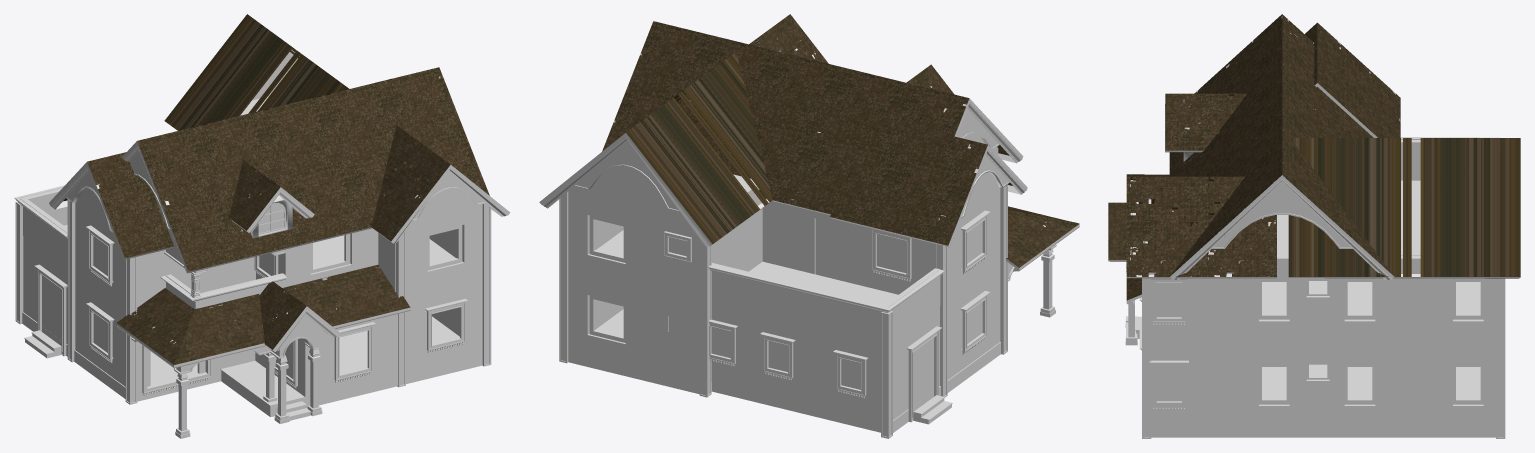
Rendered from house.fbx.
3 renders of one model, left to right at view 1: azimuth 30°, elevation 25°; view 2: azimuth 150°, elevation 25°; view 3: azimuth 270°, elevation 25°, orthographic. The views are drawn at different scales.
Parts seen in each view (by area): view 1: Plane.008, Vert.001, Cube.006, Cube.010, Plane.073, Cube.016, Cube.015, Plane.023, Plane.051, BezierCurve.007, BezierCurve.021, Vert.008 (+14 smaller); view 2: Plane.008, Vert.001, Cube.006, Plane.019, Plane.023, Cube.003, Cube.014, Vert.013, Plane.050, Vert.008, Plane.013, Plane.051 (+19 smaller); view 3: Plane.008, Vert.001, Cube.006, Plane.023, Vert.007, Cube.016, Cube.014, Plane.059, Plane.011, Plane.048, Plane.047, BezierCurve.016 (+9 smaller).
Boxes of the visible parts, box(x1,y1,x2,y2) form: Plane.008: box(49, 14, 510, 367); Vert.001: box(20, 180, 482, 397); Cube.006: box(14, 185, 482, 408); Cube.010: box(131, 337, 322, 438); Plane.073: box(220, 360, 310, 420); Cube.016: box(482, 203, 491, 366); Cube.015: box(394, 230, 405, 387); Plane.023: box(64, 225, 455, 309); Plane.051: box(42, 275, 61, 340); BezierCurve.007: box(334, 322, 375, 382); BezierCurve.021: box(34, 264, 67, 356); Vert.008: box(66, 151, 170, 231); Plane.008: box(539, 14, 1079, 270); Vert.001: box(568, 36, 1046, 423); Cube.006: box(568, 184, 1007, 438); Plane.019: box(569, 166, 684, 218); Plane.023: box(596, 230, 898, 304); Cube.003: box(699, 239, 711, 397); Cube.014: box(559, 191, 568, 363); Vert.013: box(574, 141, 680, 212); Plane.050: box(815, 218, 837, 279); Vert.008: box(956, 109, 1009, 218); Plane.013: box(541, 137, 769, 247); Plane.051: box(913, 338, 933, 405); Plane.008: box(1108, 14, 1520, 302); Vert.001: box(1145, 31, 1495, 425); Cube.006: box(1151, 137, 1499, 437); Plane.023: box(1262, 181, 1480, 313); Vert.007: box(1212, 181, 1352, 248); Cube.016: box(1142, 268, 1151, 438); Cube.014: box(1496, 278, 1505, 438); Plane.059: box(1173, 130, 1420, 255); Plane.011: box(1172, 179, 1391, 280); Plane.048: box(1156, 283, 1181, 317); Plane.047: box(1156, 368, 1181, 401); BezierCurve.016: box(1149, 360, 1188, 409).
Size of the model in its own units: 1394 by 973 by 1342.
